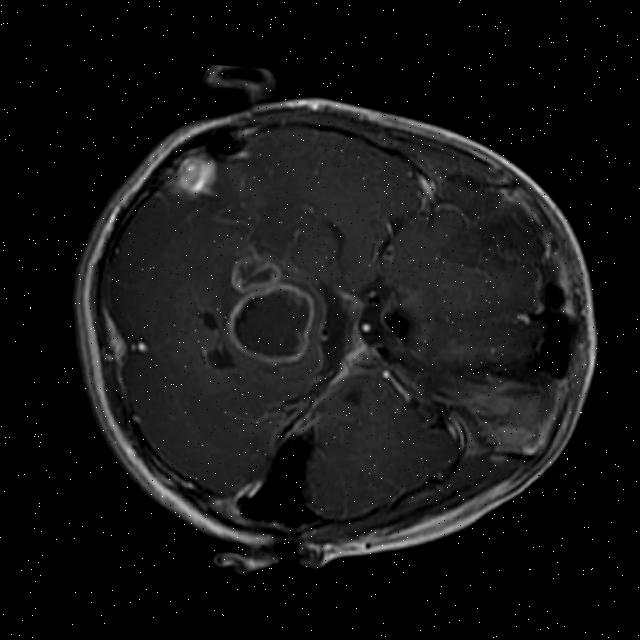Glioma: (223, 279, 315, 367), (227, 254, 283, 296)
